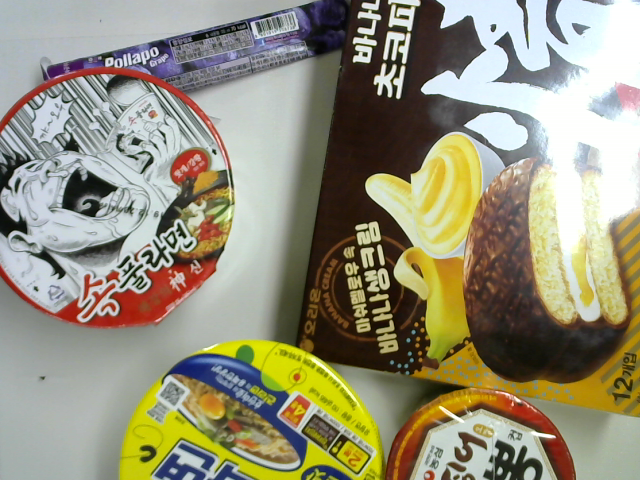Choco_Pie_Banana: (284, 1, 640, 428)
Hejangpul: (1, 69, 240, 330)
Jinlamyeon_Mild_Taste_Large_Cup: (110, 336, 386, 480)
Ojjam: (383, 380, 585, 480)
Polapo_Grape: (34, 1, 362, 122)
